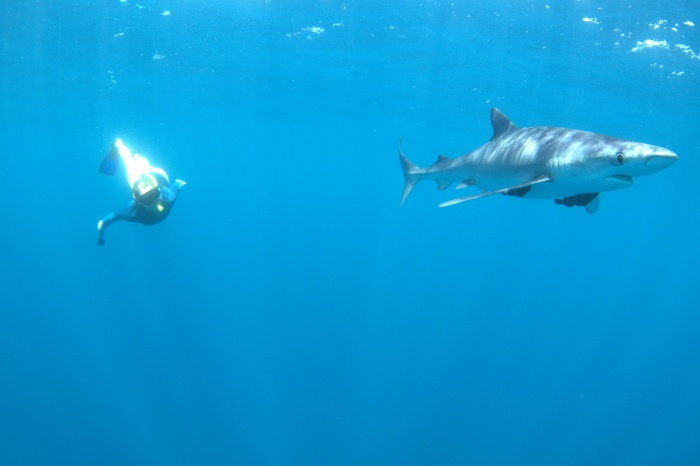Azul: (382, 95, 698, 239)
